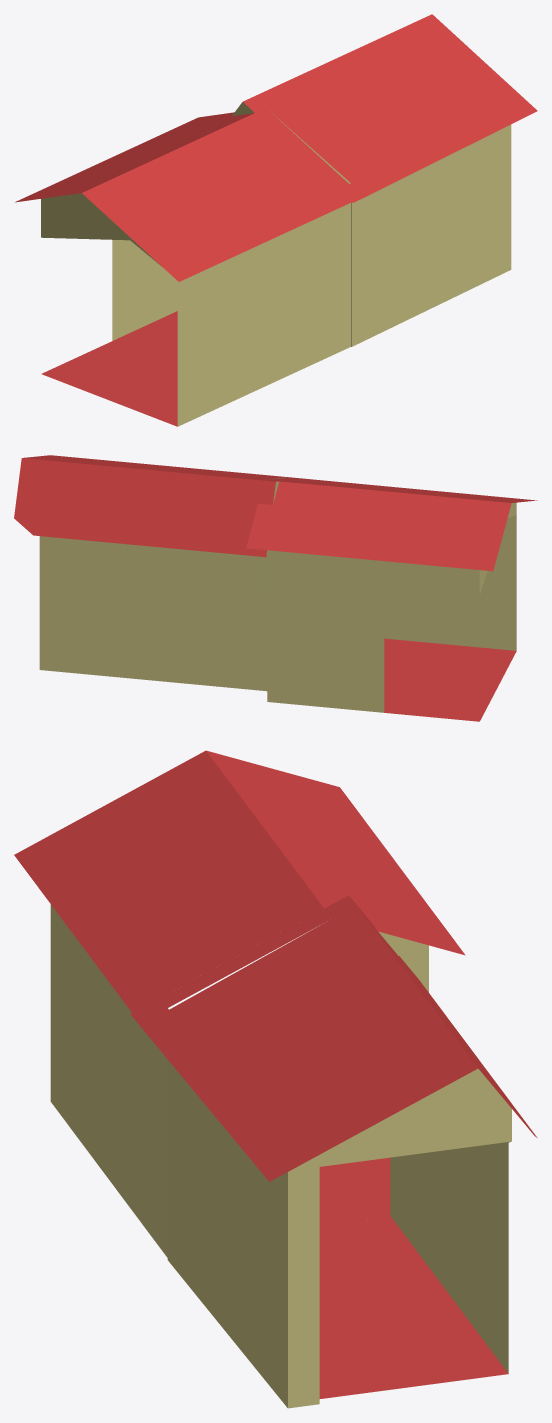
3 renders of one model, top to bottom at view 1: azimuth 30°, elevation 25°; view 2: azimuth 150°, elevation 25°; view 3: azimuth 270°, elevation 25°, orthographic. The views are drawn at different scales.
Size of the model in its own units: 22.64 by 13.41 by 9.25.
